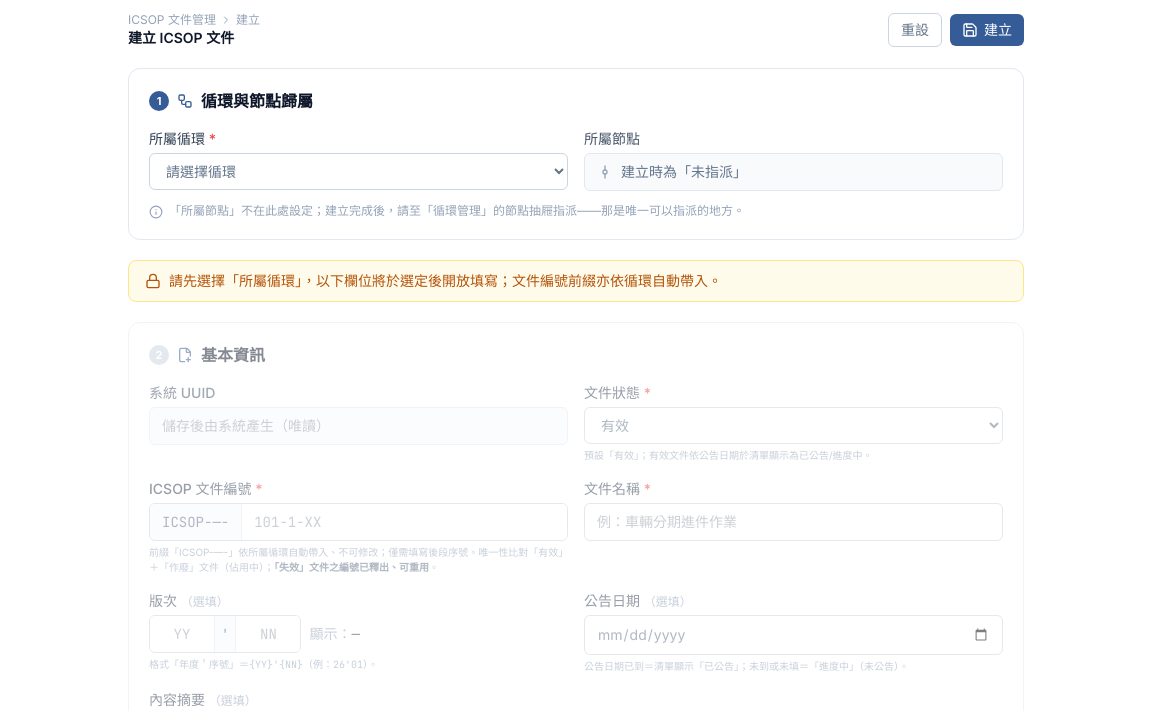
DocumentCreatePage — F010 建立文件（移植 prototype 14） › 缺必填 → 前端擋下、不呼叫 createDocument
This screenshot has width=1152, height=711.
Click the button "建立" at (987, 30), box [950, 14, 1024, 46]
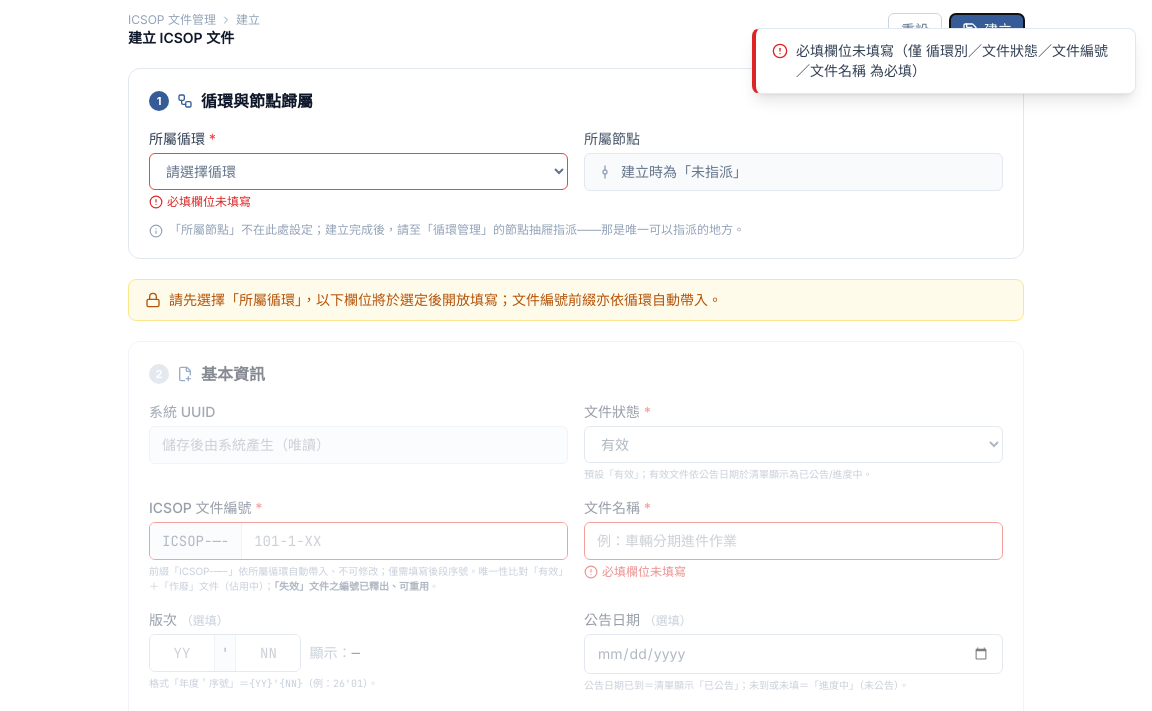
Now the text "必填欄位未填寫（僅 循環別／文件狀態／文件編號／文件名稱 為必填）" is shown, box [796, 41, 1119, 81]
